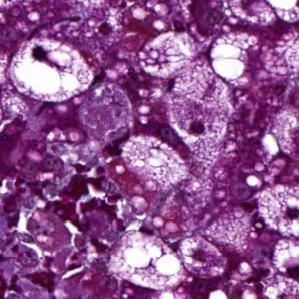ballooning: (9, 37, 96, 107), (107, 228, 185, 289), (207, 28, 261, 89), (137, 30, 198, 81), (257, 183, 299, 239)
